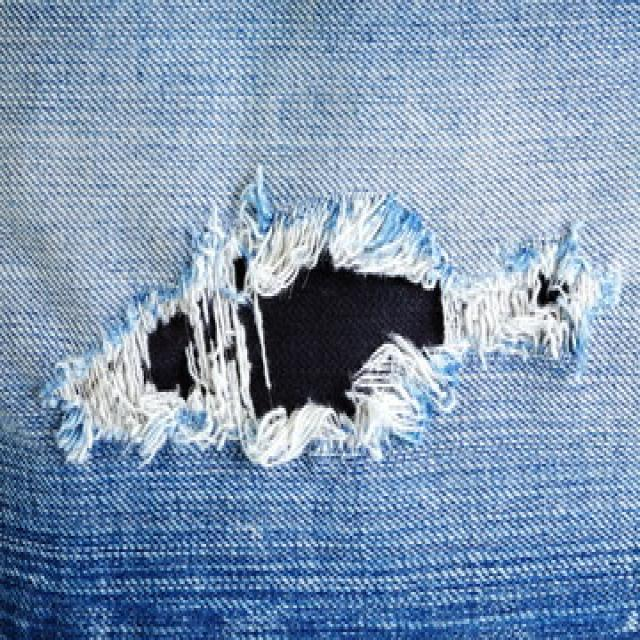Hole: (46, 174, 619, 466)
